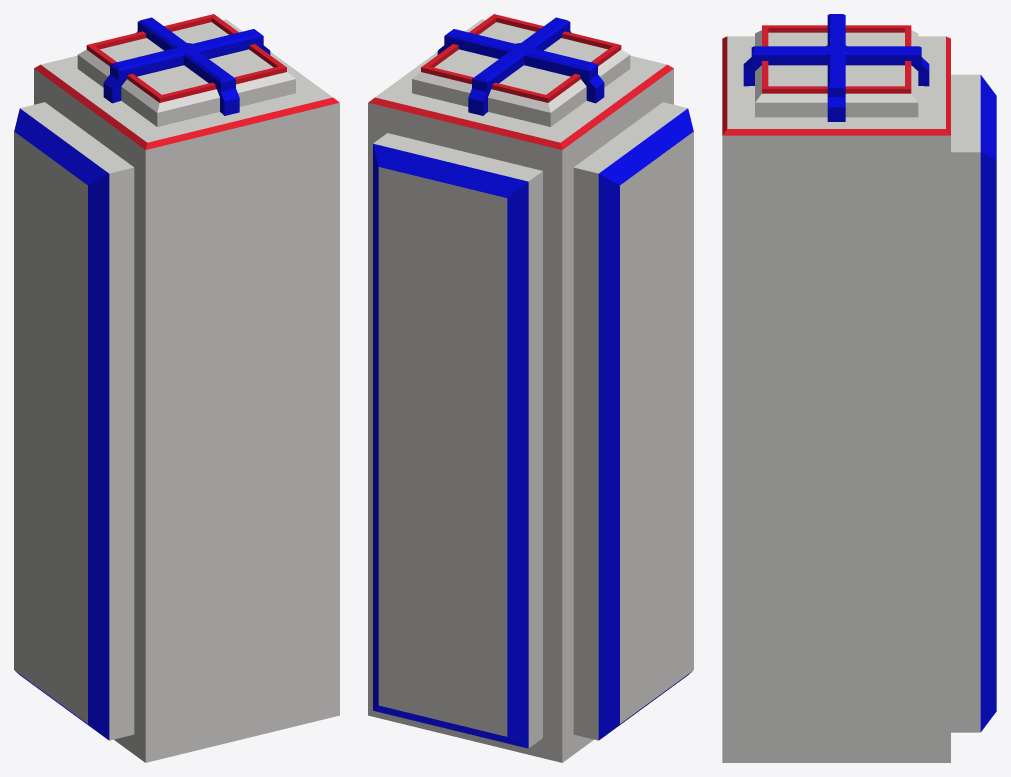
The model's file is TilleablePillar.fbx.
The picture shows the model from 3 angles, left to right: view 1: azimuth 30°, elevation 25°; view 2: azimuth 150°, elevation 25°; view 3: azimuth 270°, elevation 25°; orthographic projection. The views are drawn at different scales.
Parts seen in each view (by area): view 1: Pillar; view 2: Pillar; view 3: Pillar.
Part boxes in pixels (x1=…): Pillar: x1=14, y1=14, x2=339, y2=762; Pillar: x1=368, y1=14, x2=693, y2=762; Pillar: x1=722, y1=14, x2=996, y2=762.
Bounding box in the file's own units: 120 × 321 × 120.
